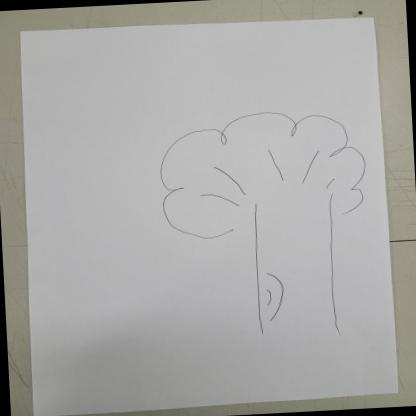branch_line: (198, 146, 337, 219)
crown_cloud: (158, 107, 367, 240)
knot: (254, 272, 284, 322)
trunk_straight: (252, 218, 338, 324)
